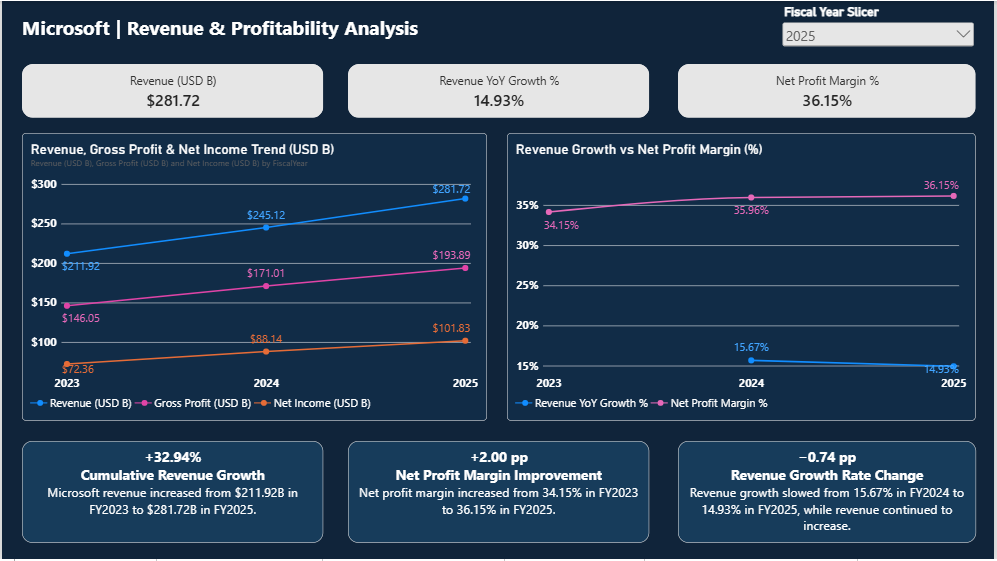

This screenshot's page, from the dashboard's own definition file:
{"tool":"powerbi","page":{"name":"Revenue & Profitability","canvas":[1920,1080],"ordinal":1},"visuals":[{"type":"textbox","box":[38.5,25.6,826.3,58.6],"z":0},{"type":"slicer","fields":{"Values":["Dim_FiscalYear.FiscalYear"]},"box":[1505.1,8.7,379.5,88.9],"z":1000},{"type":"cardVisual","fields":{"Data":["Key Measures.Revenue (USD B)"]},"box":[39,121.4,583.4,104.1],"z":2000},{"type":"cardVisual","fields":{"Data":["Key Measures.Revenue YoY Growth %"]},"box":[670.1,121.4,583.4,104.1],"z":3000},{"type":"cardVisual","fields":{"Data":["Key Measures.Net Profit Margin %"]},"box":[1307.7,121.4,576.9,104.1],"z":4000},{"type":"lineChart","title":"Revenue, Gross Profit & Net Income Trend (USD B)","fields":{"Category":["Dim_FiscalYear.FiscalYear"],"Y":["Key Measures.Revenue (USD B)","Key Measures.Gross Profit (USD B)","Key Measures.Net Income (USD B)"]},"box":[39,255.9,900,557.3],"z":5000},{"type":"lineChart","title":"Revenue Growth vs Net Profit Margin (%)","fields":{"Category":["Dim_FiscalYear.FiscalYear"],"Y":["Key Measures.Revenue YoY Growth %","Key Measures.Net Profit Margin %"]},"box":[978.1,255.9,906.5,557.3],"z":6000},{"type":"textbox","box":[39,852.3,583.4,197.3],"z":7000},{"type":"textbox","box":[670.1,852.3,583.4,197.3],"z":8000},{"type":"textbox","box":[1307.7,852.3,576.9,197.3],"z":9000}]}

Visuals, with their boxes in screenshot pixels (x1, y1, x2, y2), scaled from the page's 1920x1080 canvas onto the 997x561 screenshot:
textbox: <region>20, 13, 449, 44</region>
slicer - Dim_FiscalYear.FiscalYear: <region>782, 5, 979, 51</region>
cardVisual - Key Measures.Revenue (USD B): <region>20, 63, 323, 117</region>
cardVisual - Key Measures.Revenue YoY Growth %: <region>348, 63, 651, 117</region>
cardVisual - Key Measures.Net Profit Margin %: <region>679, 63, 979, 117</region>
"Revenue, Gross Profit & Net Income Trend (USD B)" lineChart: <region>20, 133, 488, 422</region>
"Revenue Growth vs Net Profit Margin (%)" lineChart: <region>508, 133, 979, 422</region>
textbox: <region>20, 443, 323, 545</region>
textbox: <region>348, 443, 651, 545</region>
textbox: <region>679, 443, 979, 545</region>
